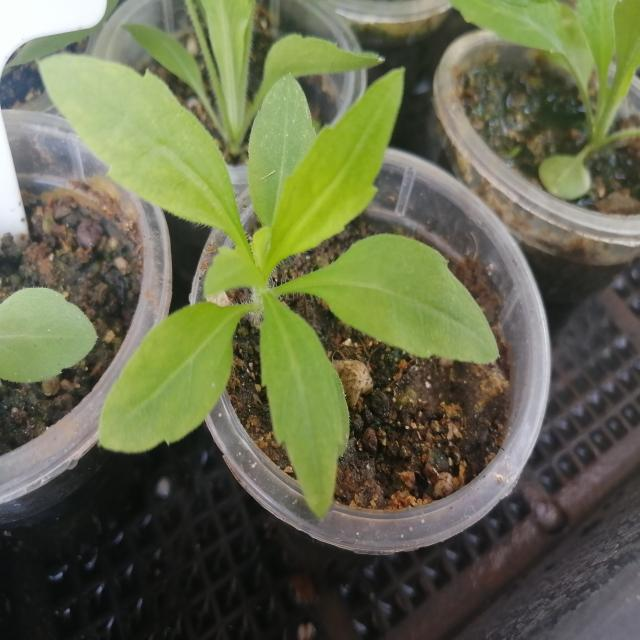horseweed: (32, 36, 518, 484)
